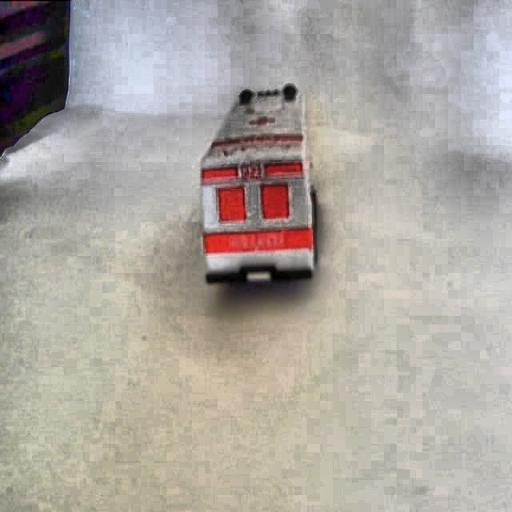ambulance: (199, 83, 318, 285)
